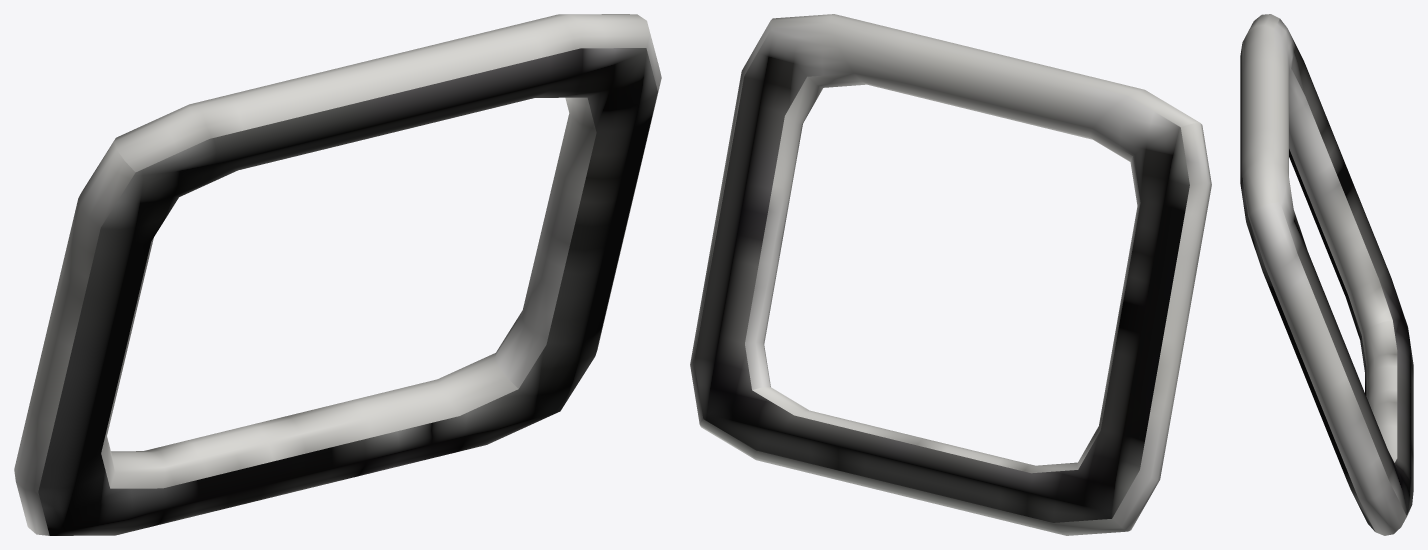
Rendered from anillo_pata2.obj.
The picture shows the model from 3 angles, left to right: view 1: azimuth 30°, elevation 25°; view 2: azimuth 150°, elevation 25°; view 3: azimuth 270°, elevation 25°; orthographic projection. The views are drawn at different scales.
Visible parts, largest first — view 1: Anillo_Pata2; view 2: Anillo_Pata2; view 3: Anillo_Pata2.
Part boxes in pixels (bbox=[...]): Anillo_Pata2: bbox=[14, 14, 661, 535]; Anillo_Pata2: bbox=[690, 14, 1211, 535]; Anillo_Pata2: bbox=[1240, 14, 1413, 535].
Size of the model in its own units: 0.0621 by 0.0501 by 0.0217.
1 material, 1 textured.
